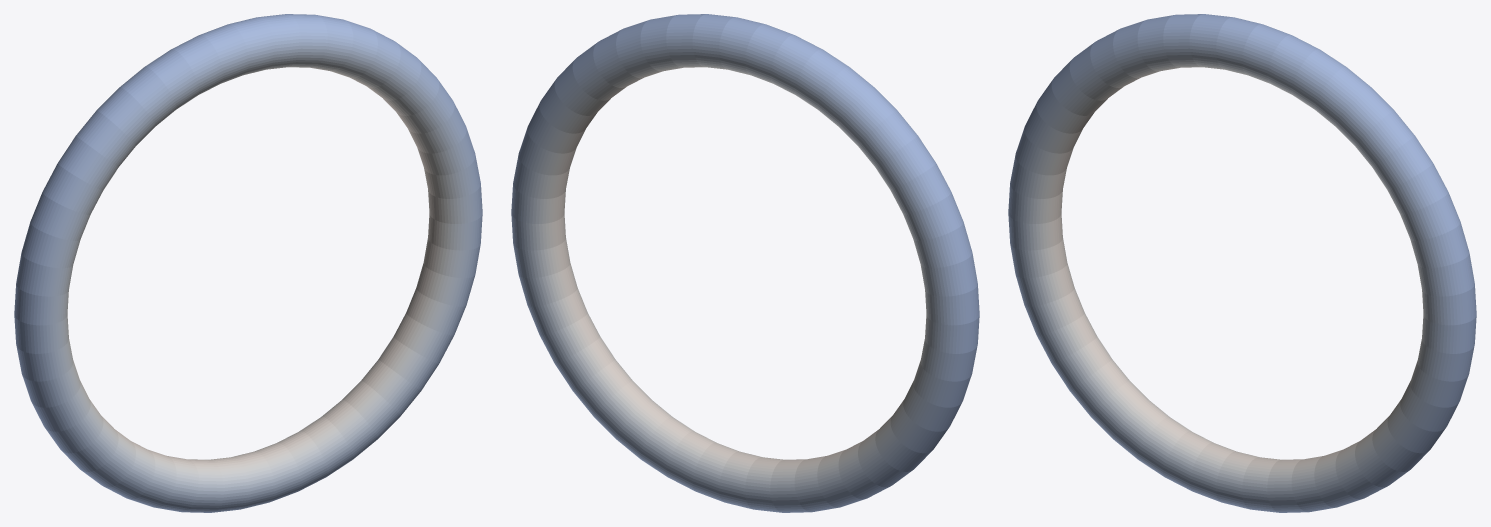
3 views of the same model, side by side, from view 1: azimuth 30°, elevation 25°; view 2: azimuth 150°, elevation 25°; view 3: azimuth 330°, elevation 25° (orthographic).
Parts seen in each view (by area): view 1: world; view 2: world; view 3: world.
Boxes of the visible parts, x1,y1,x2,y2 form: world: (14, 14, 482, 512); world: (511, 14, 979, 512); world: (1008, 14, 1476, 512).
Size of the model in its own units: 33.33 by 33.27 by 3.33.
